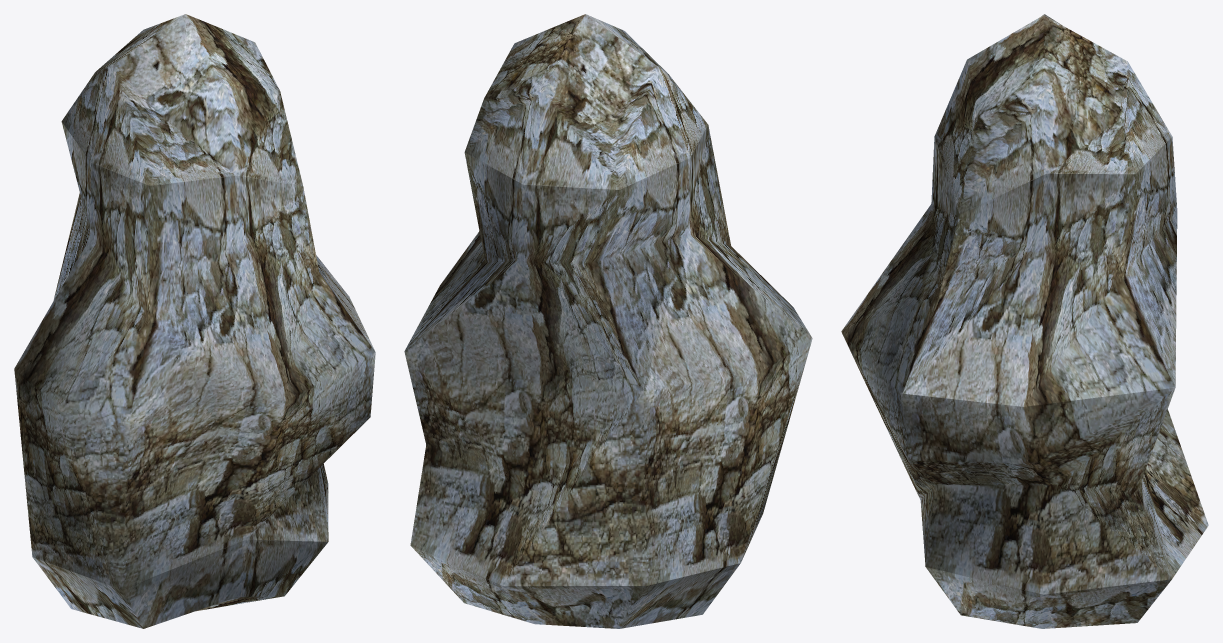
Rendered from loc2_38.glb.
3 views of the same model, side by side, from view 1: azimuth 30°, elevation 25°; view 2: azimuth 150°, elevation 25°; view 3: azimuth 270°, elevation 25° (orthographic).
Visible parts, largest first — view 1: loc2_38-col; view 2: loc2_38-col; view 3: loc2_38-col.
Part boxes in pixels (x1,y1,x2,y2): loc2_38-col: (14, 14, 375, 628); loc2_38-col: (404, 14, 812, 628); loc2_38-col: (841, 14, 1208, 628).
Bounding box in the file's own units: 2.72 × 4.67 × 2.58.
Materials: 2 (2 with a texture image).
